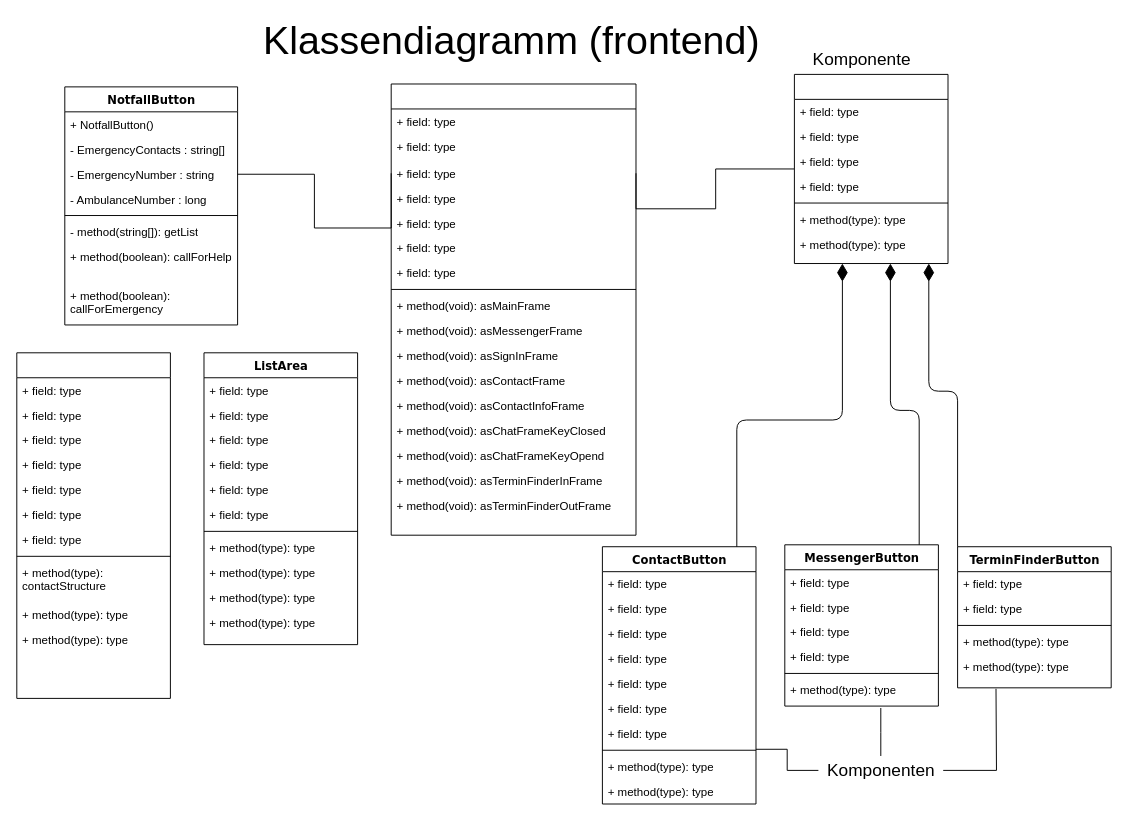
This 1128x823 diagram has some shape labels left out. The box of each missing label's shape, as (x1, y1, x2, y2) in pixels:
Frames: (390, 83, 636, 535)
Statusbar: (793, 73, 948, 264)
TextArea: (16, 352, 170, 698)
